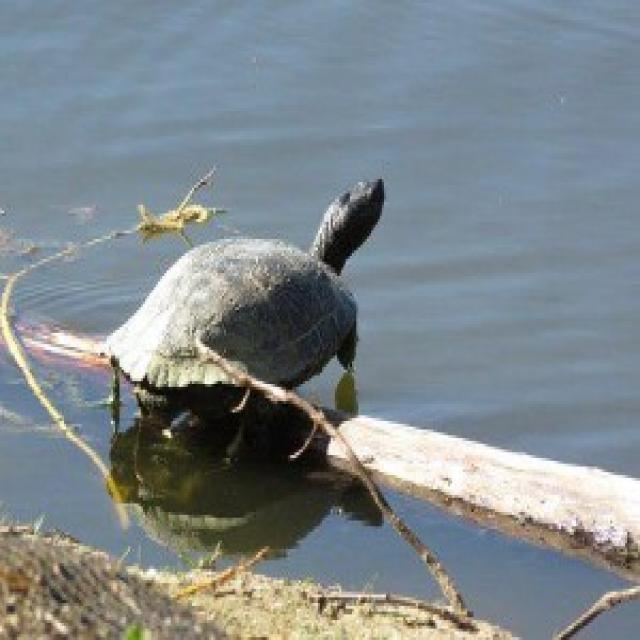Sea turtle: (93, 173, 434, 472)
